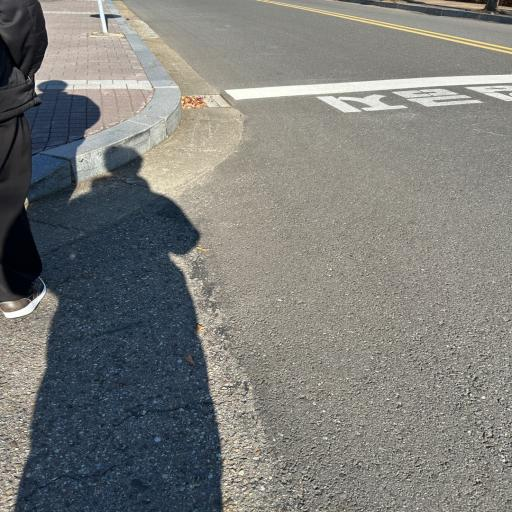debris: (182, 94, 230, 108)
drain: (182, 95, 233, 109)
